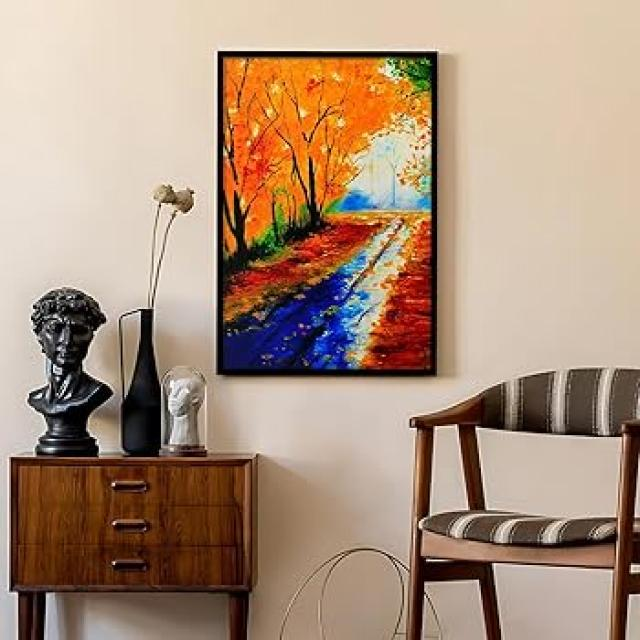painting: (217, 50, 437, 376)
